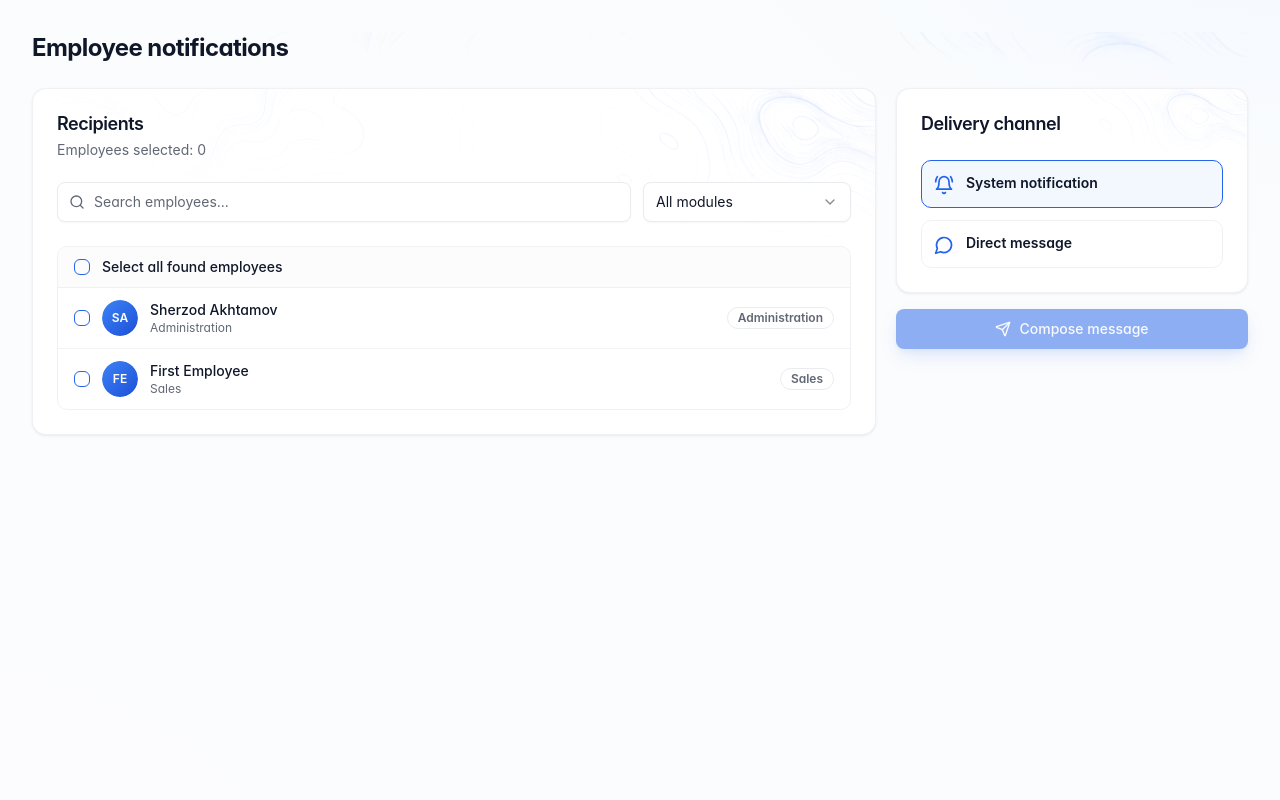
Test: employee broadcast recipient selection › sends a system notification to the current administrator and refreshes their notification list
Click the checkbox named "Select Sherzod Akhtamov" at (82, 318), box [74, 310, 90, 326]
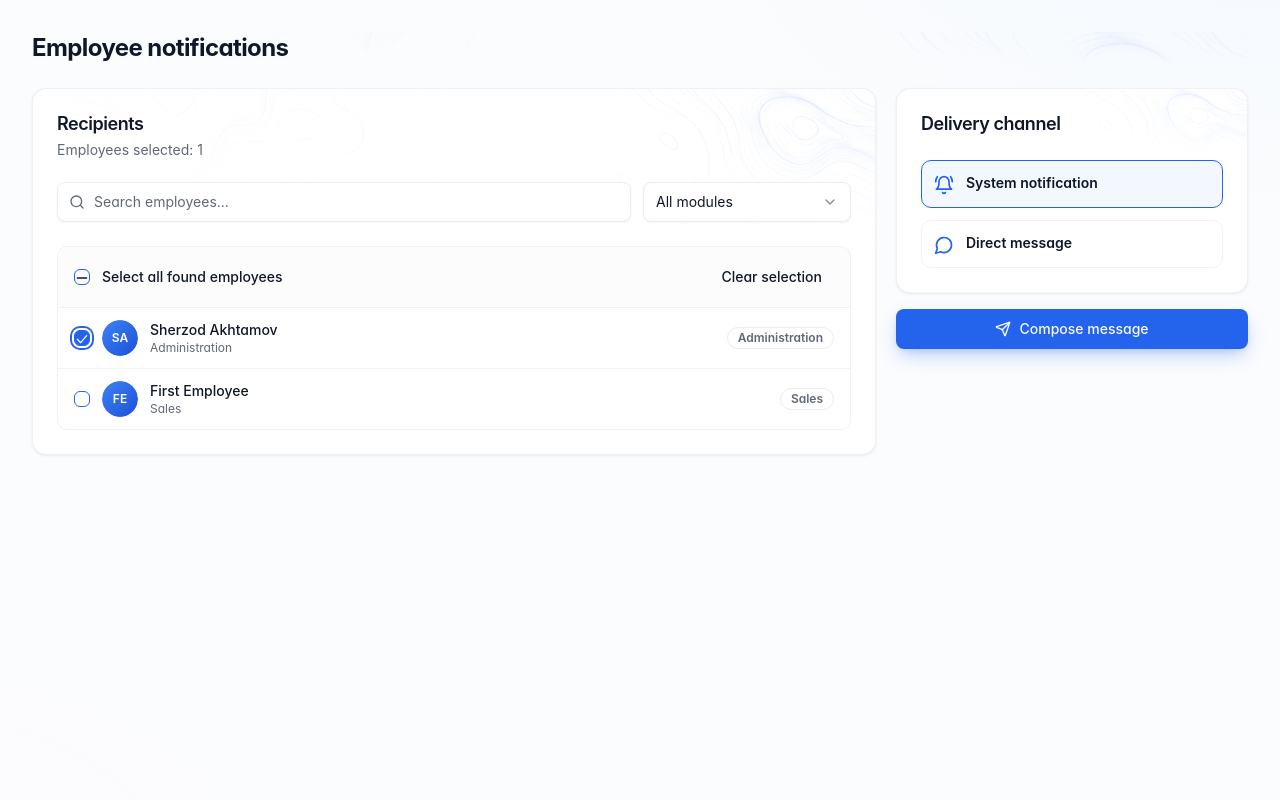
Click the button "Compose message" at (1072, 328), box [896, 308, 1248, 348]
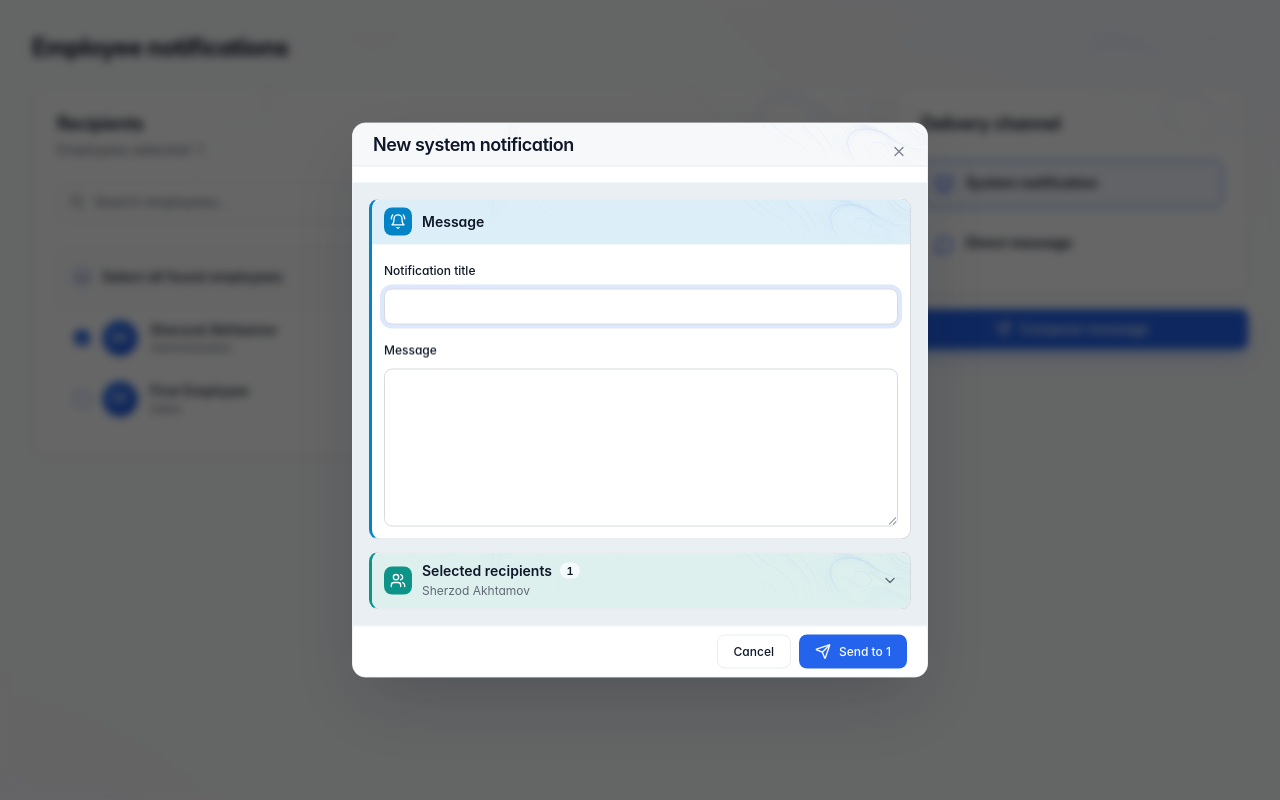
Type "Schedule update" into the field labelled "Notification title" at (641, 306), box [384, 288, 898, 324]
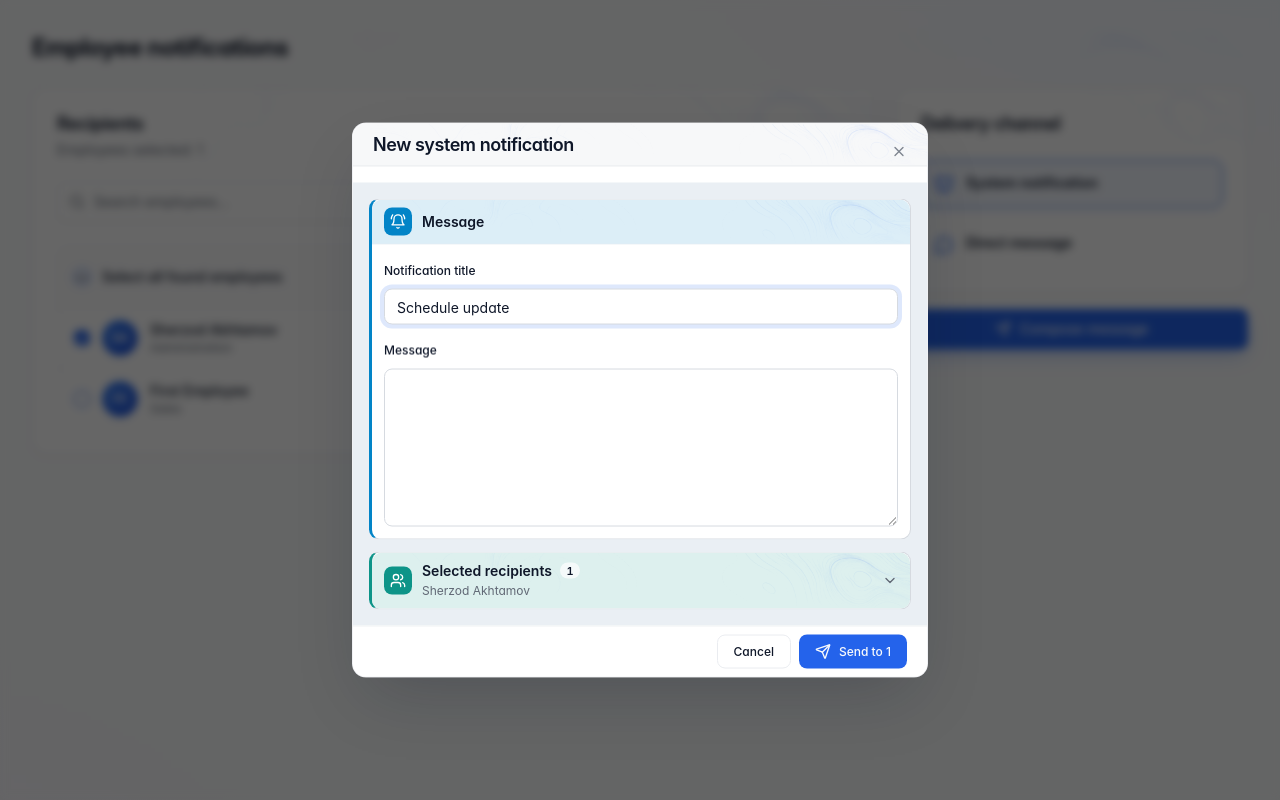
Type "Tomorrow starts at 10:00." into the text box labelled "Message" at (641, 448), box [384, 368, 898, 526]
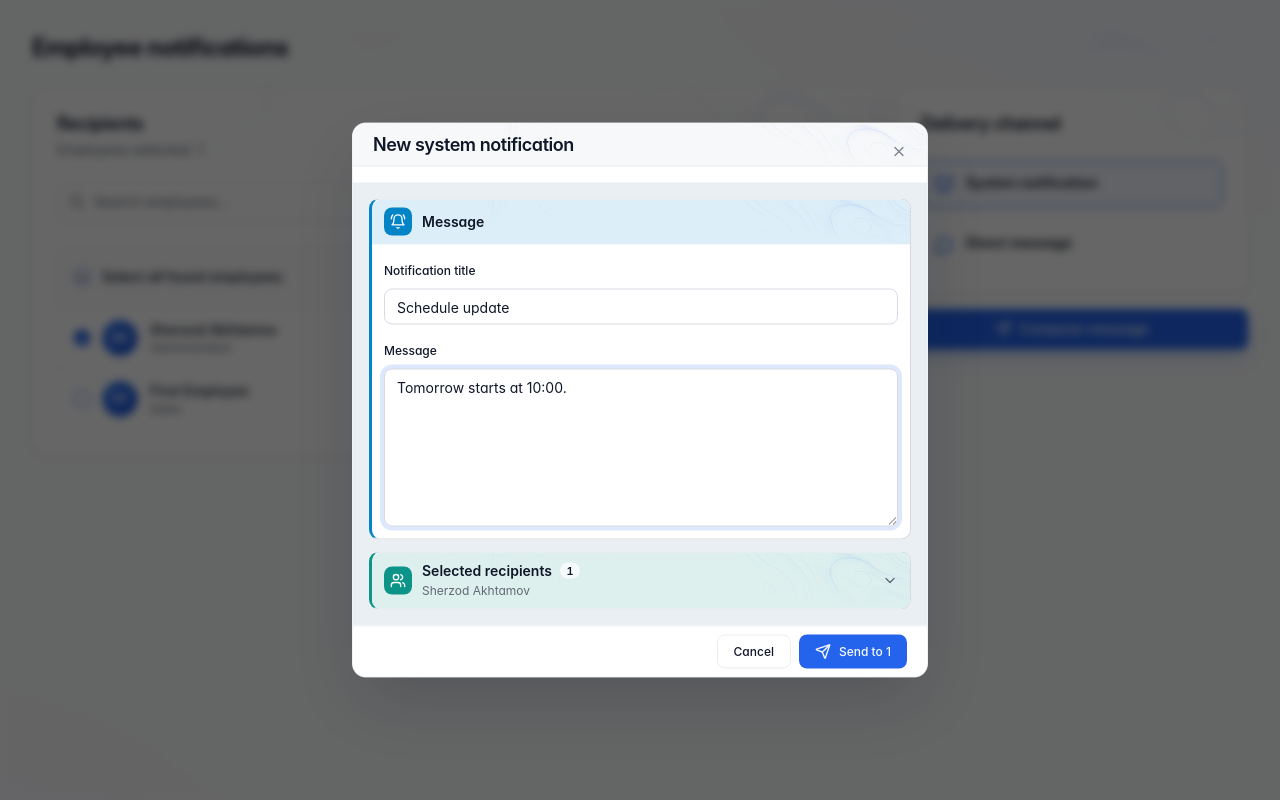
Click the button "Send to 1" at (853, 652), box [799, 634, 907, 668]
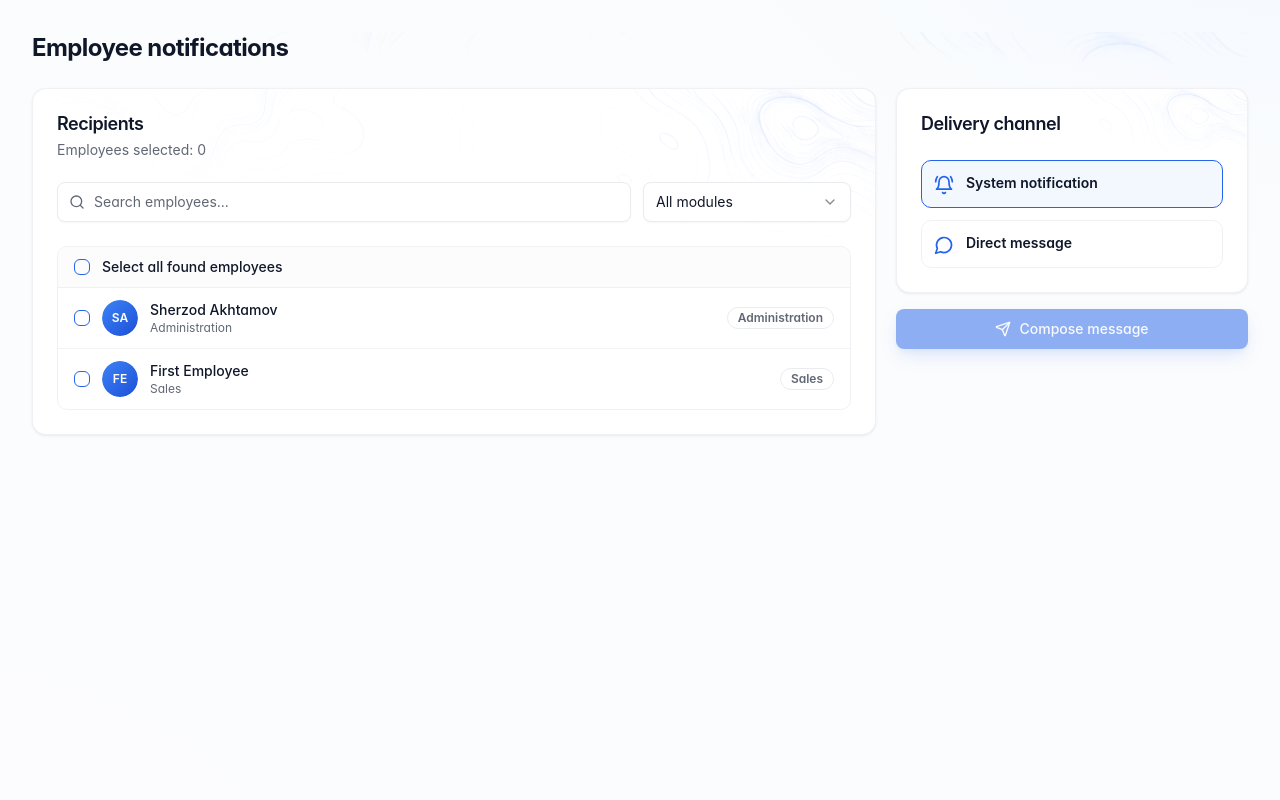
Expected: the dialog is gone
